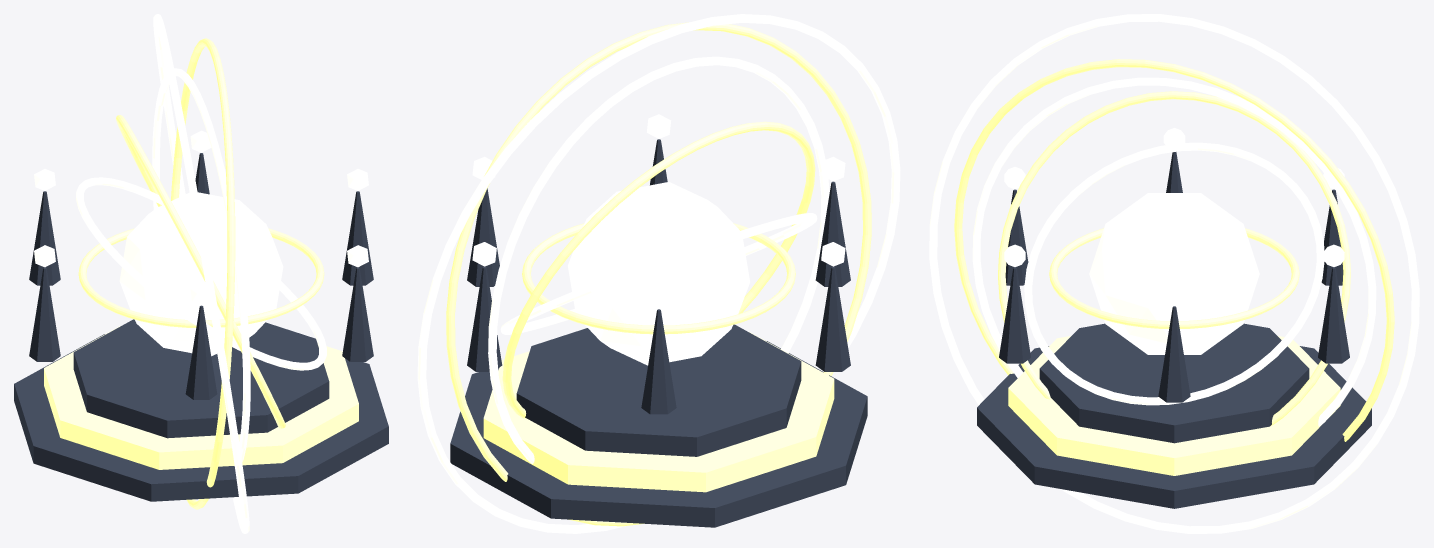
File: gpu-blender-v56.glb
The picture shows the model from 3 angles, left to right: view 1: azimuth 30°, elevation 25°; view 2: azimuth 150°, elevation 25°; view 3: azimuth 270°, elevation 25°; orthographic projection. The views are drawn at different scales.
Parts seen in each view (by area): view 1: Cylinder.002, Cylinder, SovereignCore_zoth-bounty, Cylinder.001, Torus.005, Torus.004, Torus.003, Torus.001, Torus, Torus.002, Cone.003, Cone.005 (+3 smaller); view 2: Cylinder.002, SovereignCore_zoth-bounty, Cylinder, Cylinder.001, Torus.005, Torus.004, Torus.003, Torus.002, Torus.001, Torus, Cone.002, Cone.003 (+3 smaller); view 3: SovereignCore_zoth-bounty, Cylinder.002, Cylinder, Cylinder.001, Torus.005, Torus.004, Torus.001, Torus.003, Torus.002, Torus, Cone, Cone.001 (+3 smaller).
Boxes of the visible parts, box(x1,y1,x2,y2) form: Cylinder.002: box(73, 319, 329, 438); Cylinder: box(14, 334, 388, 501); SovereignCore_zoth-bounty: box(119, 192, 283, 356); Cylinder.001: box(44, 326, 358, 469); Torus.005: box(153, 14, 249, 533); Torus.004: box(171, 38, 235, 509); Torus.003: box(152, 68, 250, 461); Torus.001: box(76, 177, 326, 370); Torus: box(78, 228, 324, 327); Torus.002: box(116, 115, 285, 428); Cone.003: box(29, 267, 60, 361); Cone.005: box(342, 267, 373, 361); Cylinder.002: box(516, 324, 801, 456); SovereignCore_zoth-bounty: box(568, 182, 749, 365); Cylinder: box(450, 341, 867, 527); Cylinder.001: box(483, 332, 834, 492); Torus.005: box(417, 14, 900, 533); Torus.004: box(446, 22, 871, 526); Torus.003: box(488, 56, 829, 463); Torus.002: box(502, 121, 815, 418); Torus.001: box(500, 213, 817, 334); Torus: box(522, 223, 795, 334); Cone.002: box(641, 309, 676, 414); Cone.003: box(815, 267, 850, 371); SovereignCore_zoth-bounty: box(1089, 193, 1259, 354); Cylinder.002: box(1039, 323, 1309, 443); Cylinder: box(977, 346, 1371, 508); Cylinder.001: box(1008, 336, 1340, 475); Torus.005: box(929, 14, 1419, 533); Torus.004: box(954, 59, 1394, 441); Torus.001: box(1024, 142, 1324, 405); Torus.003: box(972, 77, 1376, 426); Torus.002: box(998, 91, 1350, 425); Torus: box(1049, 228, 1299, 328); Cone: box(1158, 306, 1190, 402); Cone.001: box(1318, 267, 1349, 363).
Size of the model in its own units: 4.41 by 5.93 by 5.46.
